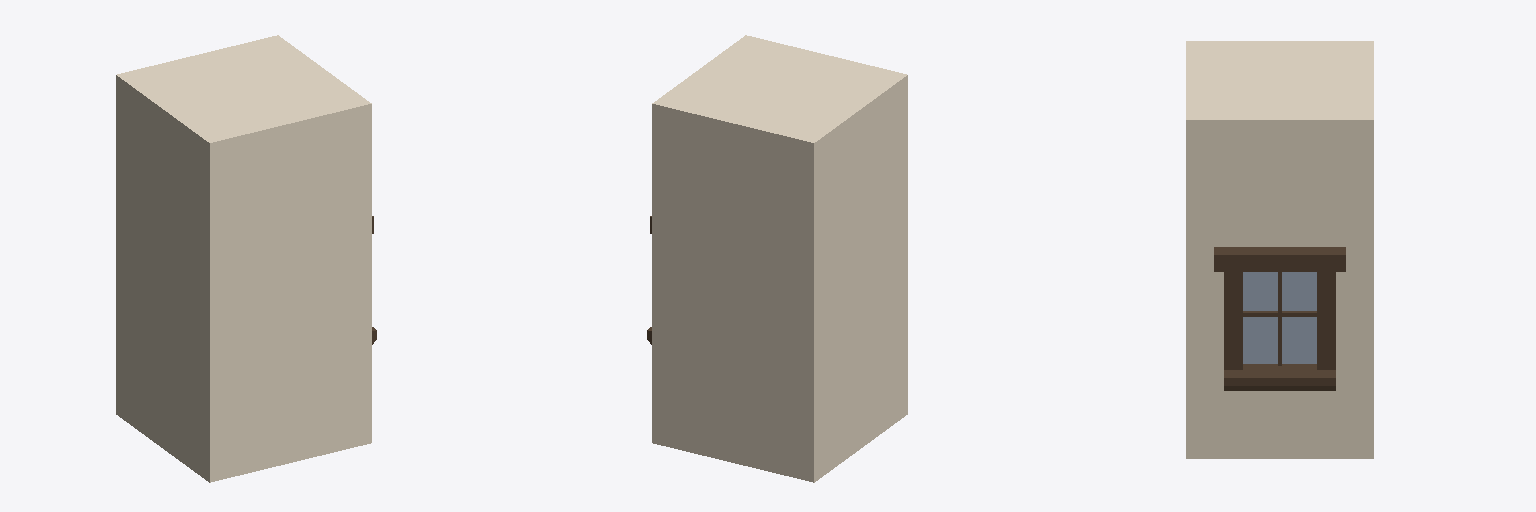
File: Stucco_Window_Single_Narrow_Tall.obj
3 views of the same model, side by side, from view 1: azimuth 30°, elevation 25°; view 2: azimuth 150°, elevation 25°; view 3: azimuth 270°, elevation 25° (orthographic).
Parts seen in each view (by area): view 1: object2; view 2: object2; view 3: object2, object3, object1.
Part boxes in pixels (left/top/right/bottom): object2: left=116, top=35, right=371, bottom=482; object2: left=652, top=35, right=907, bottom=482; object2: left=1186, top=41, right=1373, bottom=458; object3: left=1214, top=247, right=1345, bottom=390; object1: left=1243, top=272, right=1316, bottom=365.
Size of the model in its own units: 1.15 by 2 by 1.